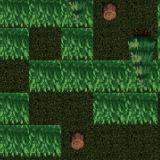Obstacle: (61, 126, 94, 158), (125, 28, 157, 61), (93, 0, 125, 27)
Slow: (29, 60, 160, 92), (0, 0, 92, 27), (93, 93, 157, 124), (0, 126, 61, 158), (61, 28, 93, 60), (0, 27, 29, 60), (0, 92, 29, 124)
